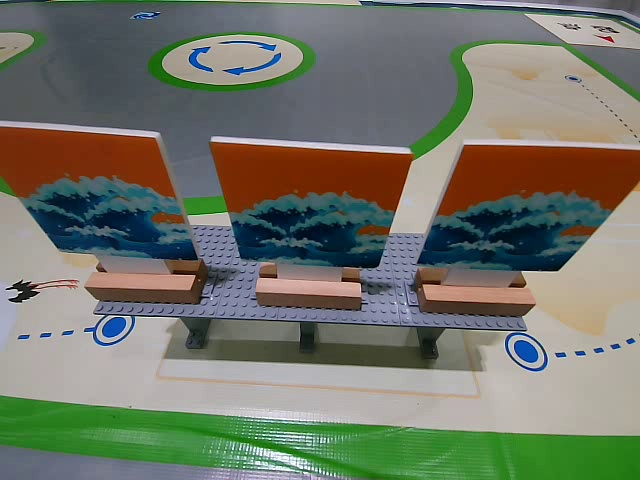waves: (420, 142, 640, 269), (2, 123, 199, 264), (209, 139, 412, 269)
